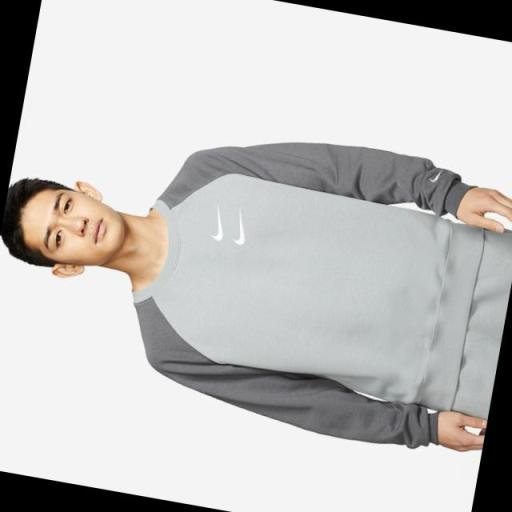Nike: (210, 202, 232, 241)
